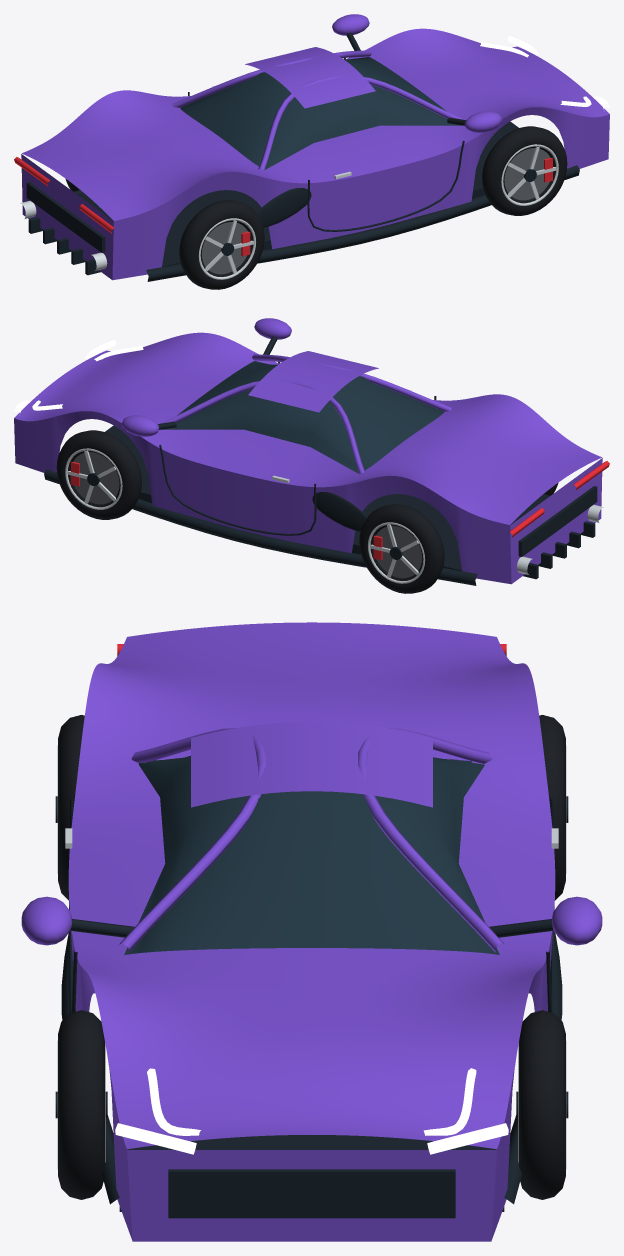
Rendered from car22.glb.
3 views of the same model, one above another, from view 1: azimuth 30°, elevation 25°; view 2: azimuth 150°, elevation 25°; view 3: azimuth 270°, elevation 25° (orthographic). The views are drawn at different scales.
Parts seen in each view (by area): view 1: CAR22, rim (×2); view 2: CAR22, rim (×2); view 3: CAR22, front-grille.
Part boxes in pixels (x1,y1,x2,y2): CAR22: [14, 14, 609, 289]; rim (×2): [198, 144, 558, 279]; CAR22: [14, 318, 609, 593]; rim (×2): [65, 448, 425, 583]; CAR22: [21, 622, 602, 1241]; front-grille: [168, 1169, 455, 1218].
Bounding box in the file's own units: 4.59 × 1.21 × 2.25.
